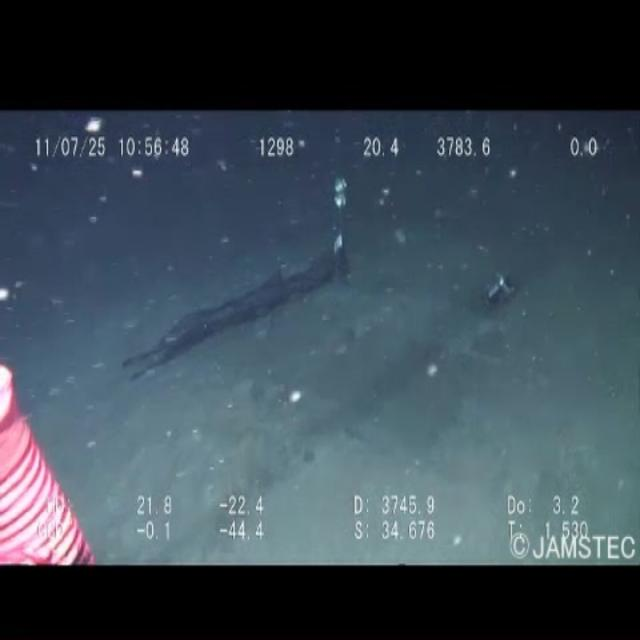Metal: (110, 228, 390, 384)
